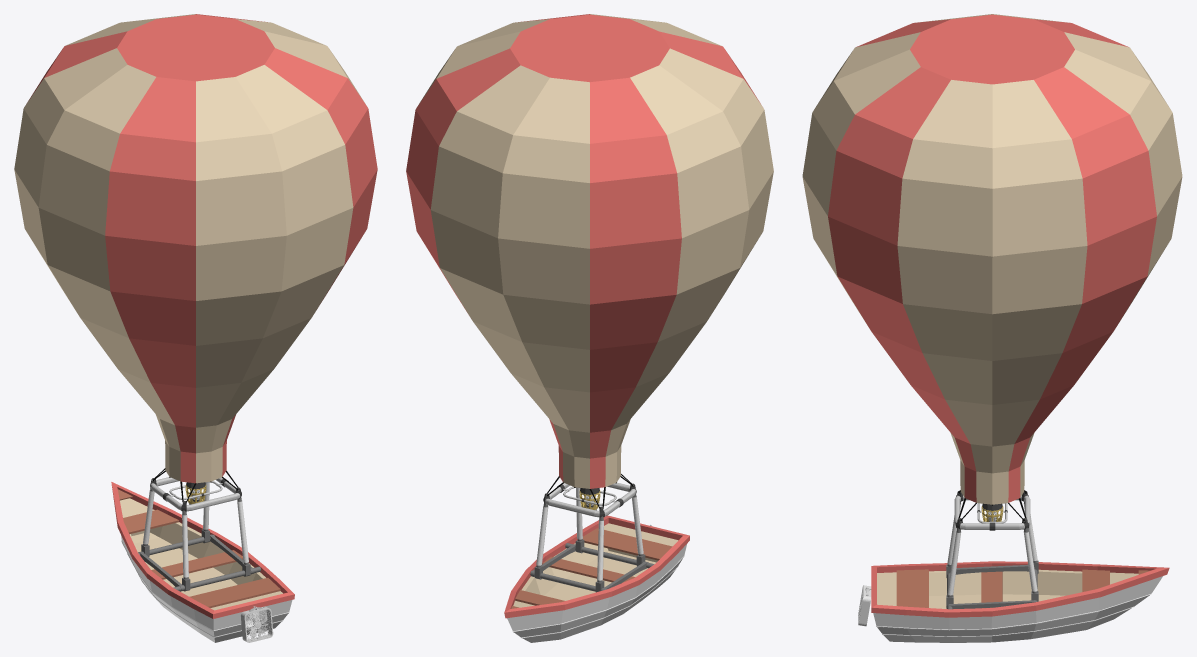
File: ModeOfTransportation.fbx
3 views of the same model, side by side, from view 1: azimuth 30°, elevation 25°; view 2: azimuth 150°, elevation 25°; view 3: azimuth 270°, elevation 25° (orthographic). The views are drawn at different scales.
Visible parts, largest first — view 1: Balloon, RowBoat, OuterFrame, FinalCage; view 2: Balloon, RowBoat, OuterFrame; view 3: Balloon, RowBoat, OuterFrame.
Boxes of the visible parts, x1,y1,x2,y2 form: Balloon: (14, 14, 377, 502); RowBoat: (111, 482, 294, 642); OuterFrame: (150, 477, 241, 511); FinalCage: (241, 606, 273, 642); Balloon: (406, 14, 773, 509); RowBoat: (504, 488, 689, 642); OuterFrame: (543, 482, 636, 517); Balloon: (802, 14, 1182, 520); RowBoat: (865, 502, 1169, 642); OuterFrame: (954, 490, 1030, 530).
Bounding box in the file's own units: 880 × 1478 × 880.
